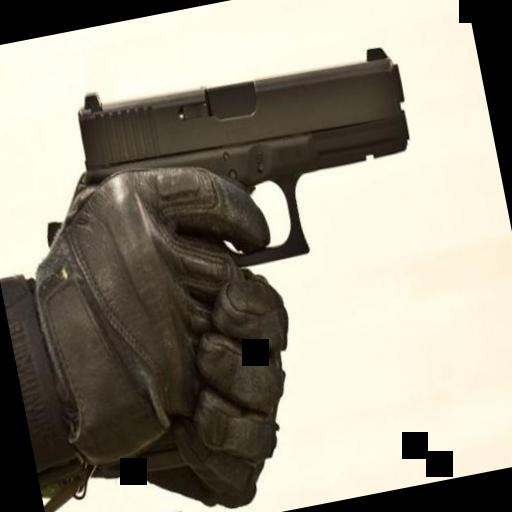Handgun: (64, 26, 430, 291)
